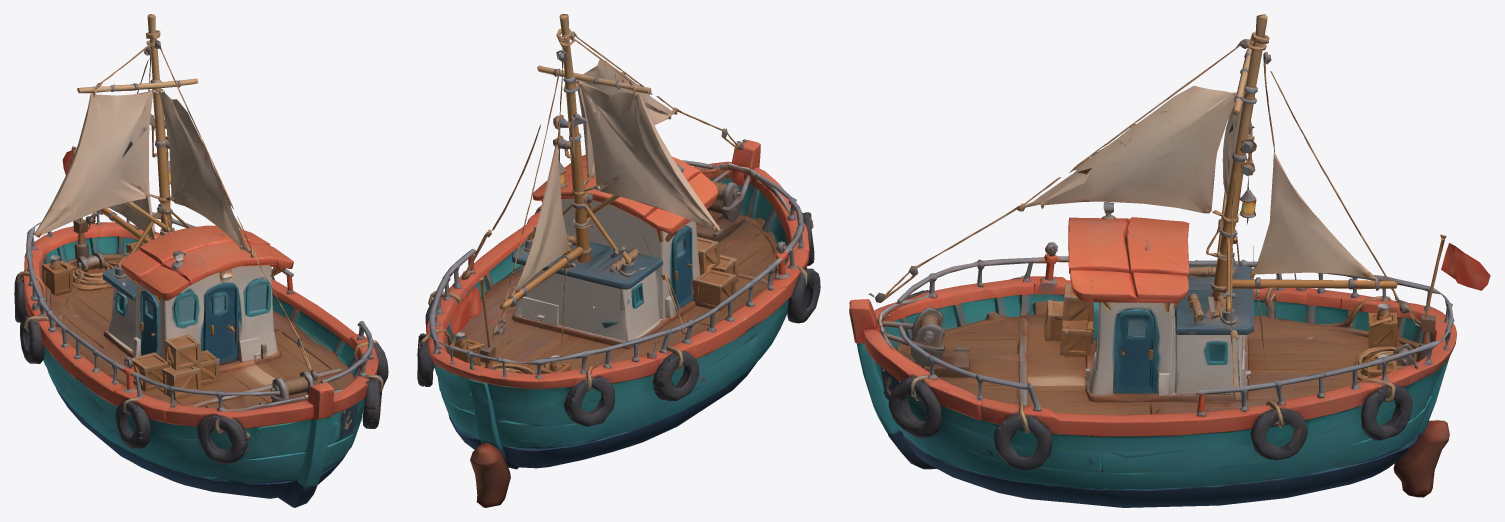
File: fishing-boat-desktop.glb
3 views of the same model, side by side, from view 1: azimuth 30°, elevation 25°; view 2: azimuth 150°, elevation 25°; view 3: azimuth 270°, elevation 25° (orthographic). The views are drawn at different scales.
Visible parts, largest first — view 1: model; view 2: model; view 3: model.
Boxes of the visible parts, left/top/right/bottom form: model: left=14, top=14, right=388, bottom=507; model: left=417, top=14, right=820, bottom=507; model: left=849, top=14, right=1490, bottom=507.
Size of the model in its own units: 1.02 by 1.54 by 1.88.
Materials: 1 (1 with a texture image).
